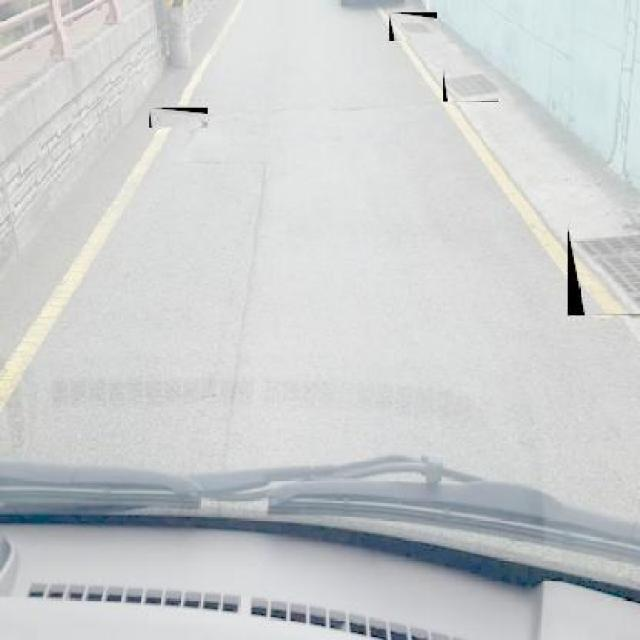Manhole: (567, 224, 640, 315), (443, 67, 499, 101), (389, 12, 437, 40), (149, 108, 208, 128)
